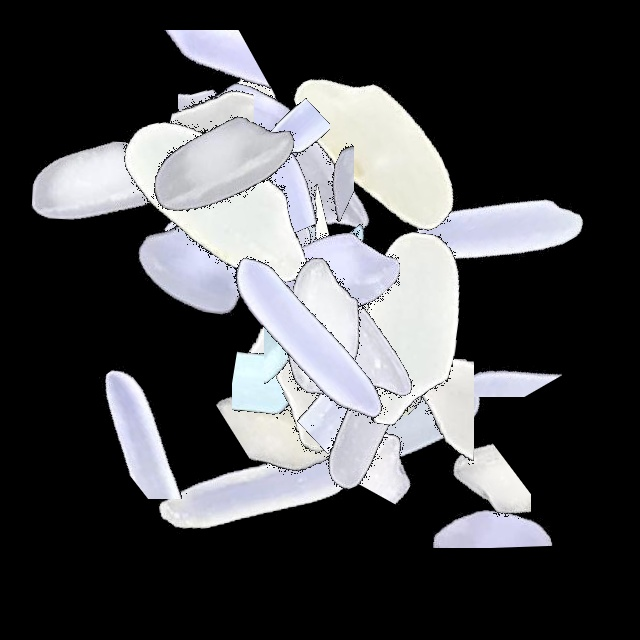Broken: (17, 98, 182, 348), (187, 327, 437, 488), (59, 350, 309, 499), (264, 210, 411, 460), (242, 264, 492, 406), (205, 338, 455, 479), (291, 261, 432, 511), (198, 290, 448, 421), (364, 421, 614, 548), (331, 307, 454, 557), (232, 263, 355, 513), (282, 293, 532, 415), (415, 388, 531, 638), (138, 0, 254, 250), (213, 55, 328, 305), (178, 0, 291, 250), (155, 42, 268, 292), (382, 285, 632, 397), (81, 30, 331, 139), (253, 54, 354, 304), (382, 293, 474, 543), (107, 109, 357, 200), (151, 156, 401, 244), (243, 16, 330, 266), (174, 353, 424, 432)
Full: (122, 53, 372, 303), (275, 213, 525, 463), (288, 296, 538, 546), (138, 365, 388, 615), (220, 209, 470, 459), (232, 199, 482, 449), (232, 209, 482, 459), (262, 199, 512, 449), (145, 100, 395, 350), (372, 104, 622, 354), (123, 64, 373, 314), (114, 105, 364, 355), (214, 225, 464, 475), (68, 143, 318, 393), (188, 47, 438, 297), (250, 26, 500, 276), (117, 0, 367, 250), (246, 300, 496, 550), (287, 203, 537, 453), (232, 214, 482, 464), (216, 150, 466, 400), (90, 80, 340, 330), (100, 40, 350, 290), (197, 203, 447, 453), (181, 213, 431, 463)
